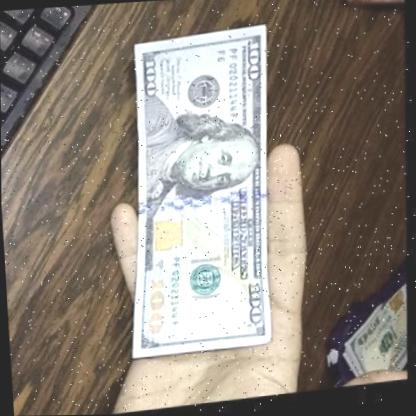one_hundred-front: (117, 25, 293, 375)
